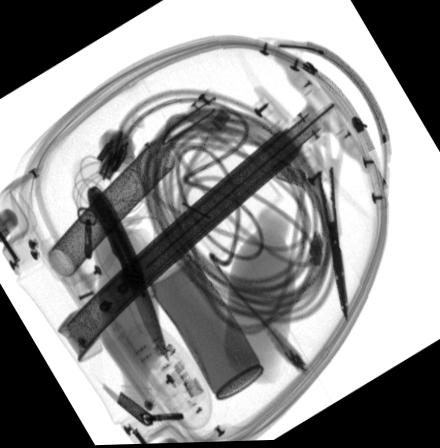Knife: (87, 184, 171, 360)
Scissors: (291, 97, 351, 327)
